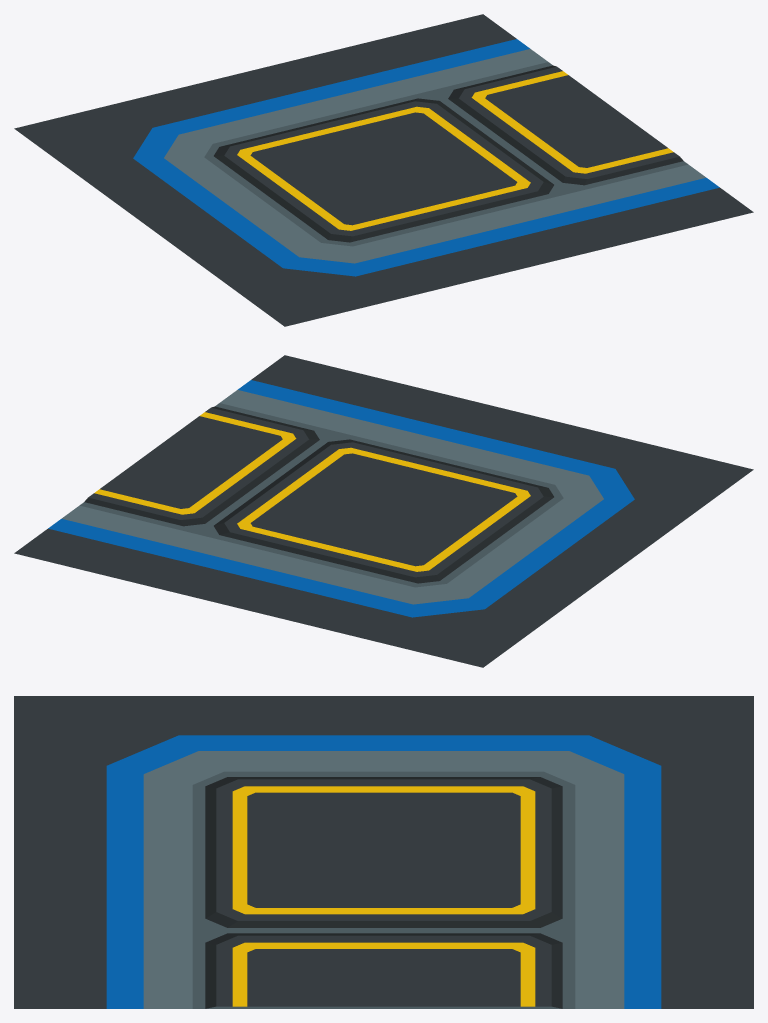
Rendered from Floor_type_C_027.fbx.
The picture shows the model from 3 angles, top to bottom: view 1: azimuth 30°, elevation 25°; view 2: azimuth 150°, elevation 25°; view 3: azimuth 270°, elevation 25°; orthographic projection. The views are drawn at different scales.
Parts seen in each view (by area): view 1: Floor_type_C_027; view 2: Floor_type_C_027; view 3: Floor_type_C_027.
Part boxes in pixels (x1,y1,x2,y2): Floor_type_C_027: (14, 14, 753, 326); Floor_type_C_027: (14, 355, 753, 667); Floor_type_C_027: (14, 696, 753, 1008).
Size of the model in its own units: 400 by 400 by 1.34.
